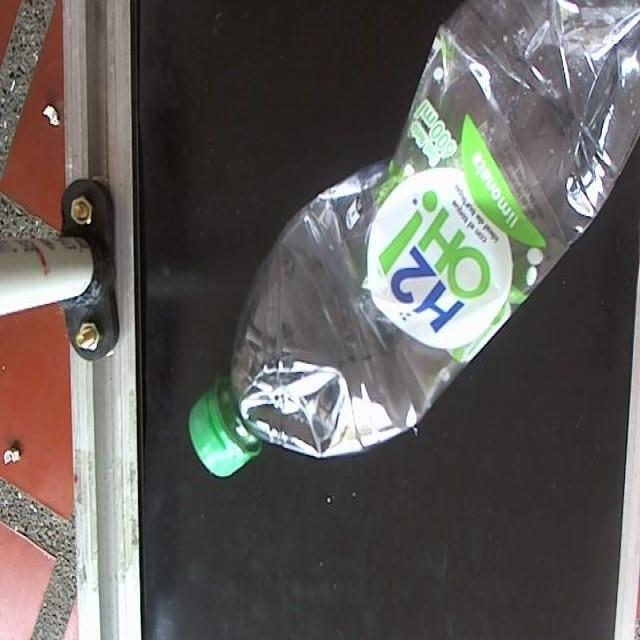defect: (185, 0, 640, 483)
